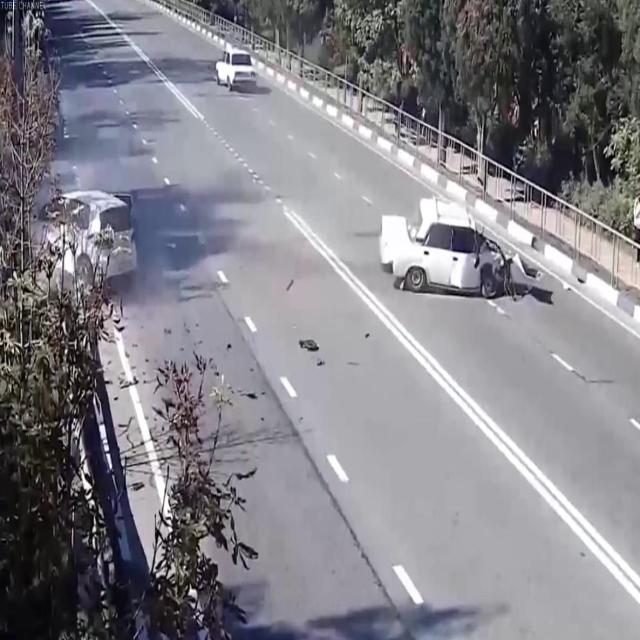accident: (373, 182, 551, 314), (0, 177, 148, 331)
